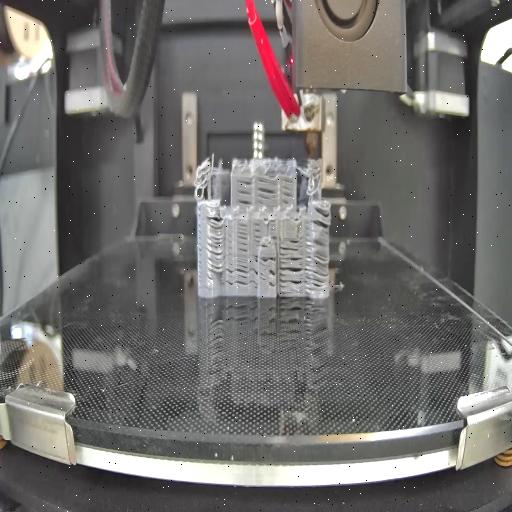cracks: (304, 240, 330, 288), (206, 214, 224, 274), (279, 256, 303, 294), (234, 173, 252, 208), (224, 260, 248, 286), (310, 204, 330, 232), (256, 180, 276, 206), (236, 223, 248, 255), (279, 178, 293, 204), (279, 236, 299, 253), (250, 256, 258, 288), (268, 218, 278, 240), (252, 221, 260, 244), (268, 268, 276, 288), (260, 256, 274, 264), (260, 242, 269, 248)
